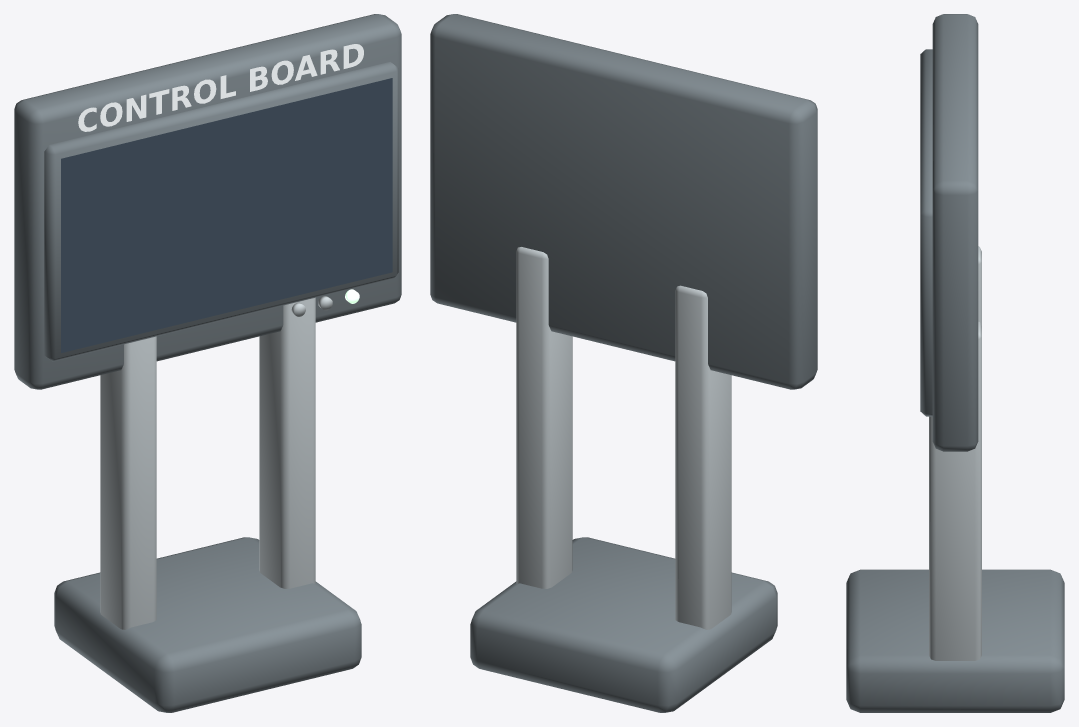
The model's file is control_board_enhanced.glb.
3 views of the same model, side by side, from view 1: azimuth 30°, elevation 25°; view 2: azimuth 150°, elevation 25°; view 3: azimuth 270°, elevation 25° (orthographic). The views are drawn at different scales.
Visible parts, largest first — view 1: LiveViewSurface_glass, DisplayHousing_frame, Base_frame, Support_steel, LiveViewSurfaceFrame_frame, TypeLabel_white; view 2: DisplayHousing_frame, Support_steel, Base_frame; view 3: Base_frame, DisplayHousing_frame, Support_steel, LiveViewSurfaceFrame_frame.
Part boxes in pixels (x1,y1,x2,y2): LiveViewSurface_glass: (61,78,392,352); DisplayHousing_frame: (14,14,401,389); Base_frame: (54,537,361,712); Support_steel: (100,297,315,629); LiveViewSurfaceFrame_frame: (44,62,398,361); TypeLabel_white: (78,44,363,131); DisplayHousing_frame: (430,14,817,389); Support_steel: (516,247,731,629); Base_frame: (470,537,777,712); Base_frame: (846,569,1064,712); DisplayHousing_frame: (932,14,978,451); Support_steel: (929,246,981,660); LiveViewSurfaceFrame_frame: (920,49,932,416).
Size of the model in its own units: 1.18 by 1.79 by 0.62.
